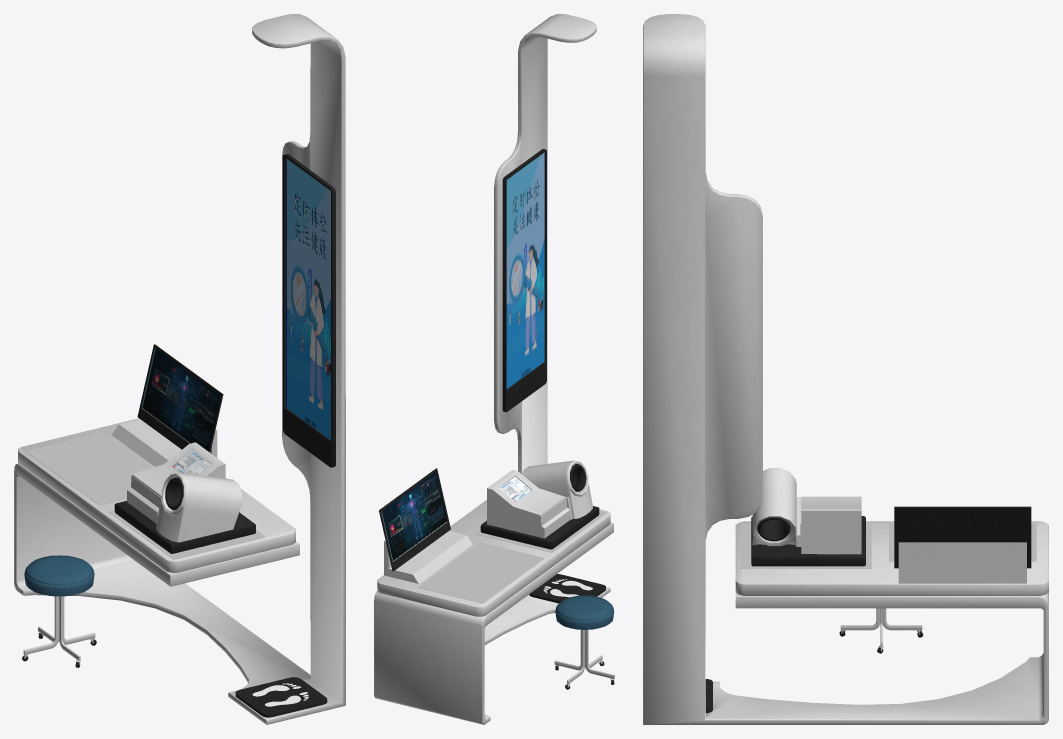
File: SM_检查室_体检一体机_01.fbx
3 renders of one model, left to right at view 1: azimuth 30°, elevation 25°; view 2: azimuth 150°, elevation 25°; view 3: azimuth 270°, elevation 25°, orthographic. The views are drawn at different scales.
Parts seen in each view (by area): view 1: SM_检查室_体检一体机_01; view 2: SM_检查室_体检一体机_01; view 3: SM_检查室_体检一体机_01.
Boxes of the visible parts, left/top/right/bottom form: SM_检查室_体检一体机_01: left=14, top=14, right=345, bottom=724; SM_检查室_体检一体机_01: left=374, top=14, right=614, bottom=724; SM_检查室_体检一体机_01: left=643, top=14, right=1048, bottom=724.
Bounding box in the file's own units: 120 × 376 × 205.
